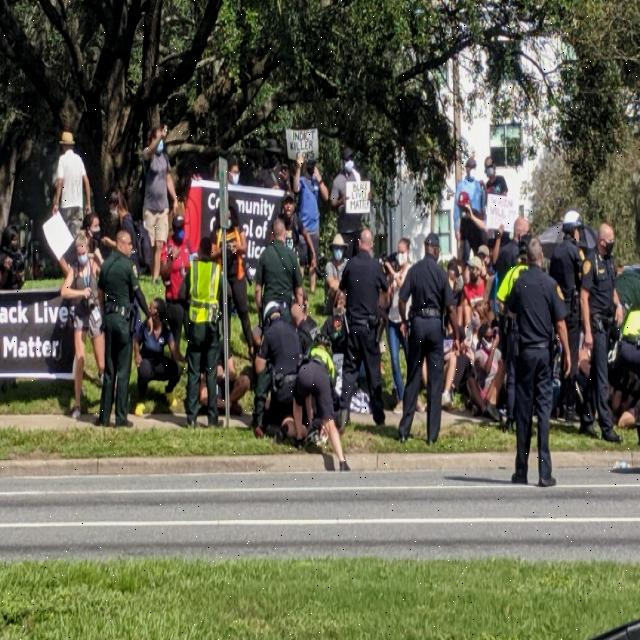police: (498, 221, 563, 501), (167, 226, 237, 442), (243, 212, 305, 434), (404, 224, 457, 462), (98, 218, 152, 447), (574, 214, 620, 440), (338, 227, 386, 433)
